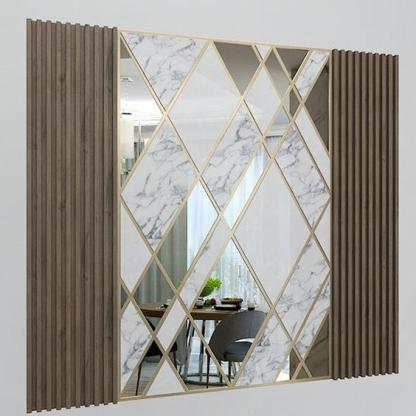Wall Panel: (26, 17, 402, 415)
